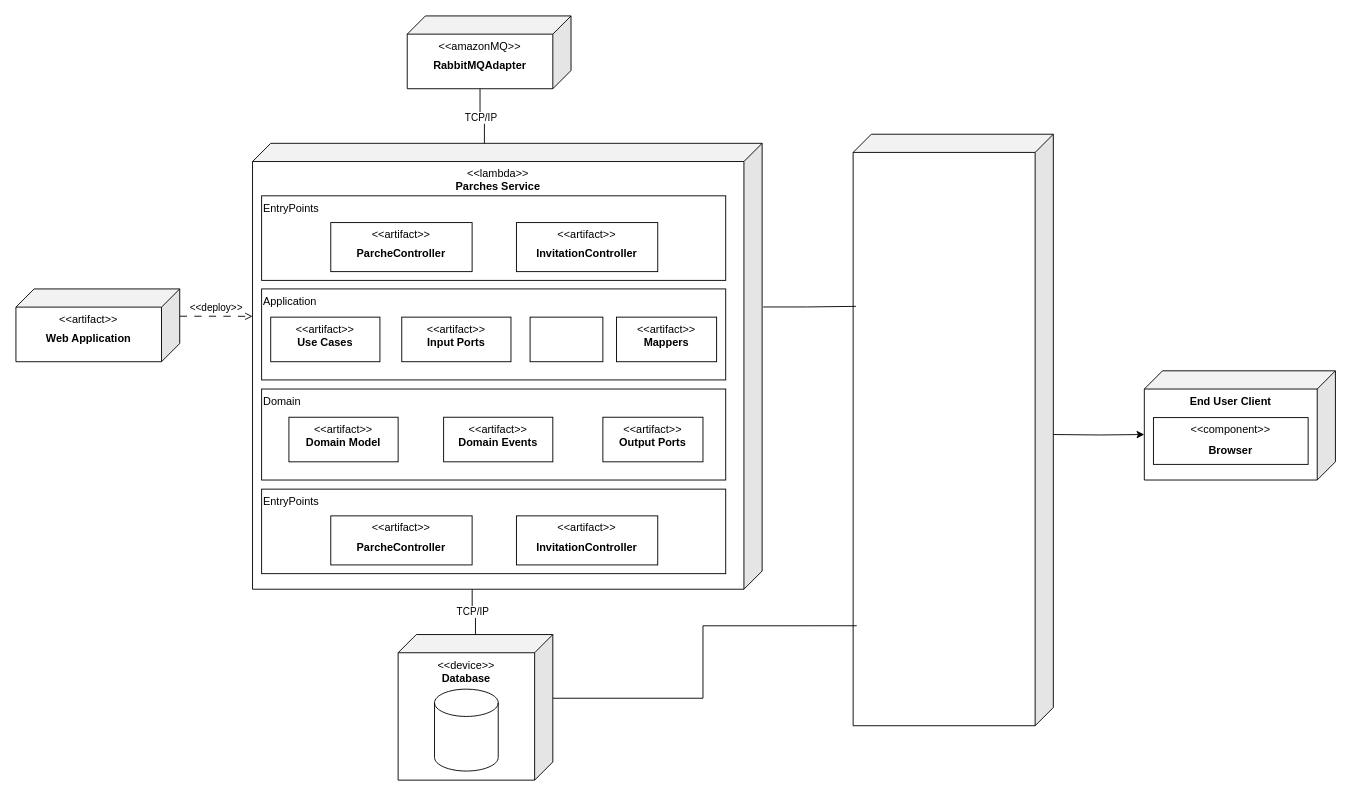
Image size: 1351x796. Some labels were removed from this diagram. The shapes that lost their labels are listed below. From the top down, each one's centre as x and y in pixels, then its label:
At point 566,339: "<<artifact>> DTOs".
At point 952,429: "API GATEWAY".
At point 466,729: "PostgreSQL".
